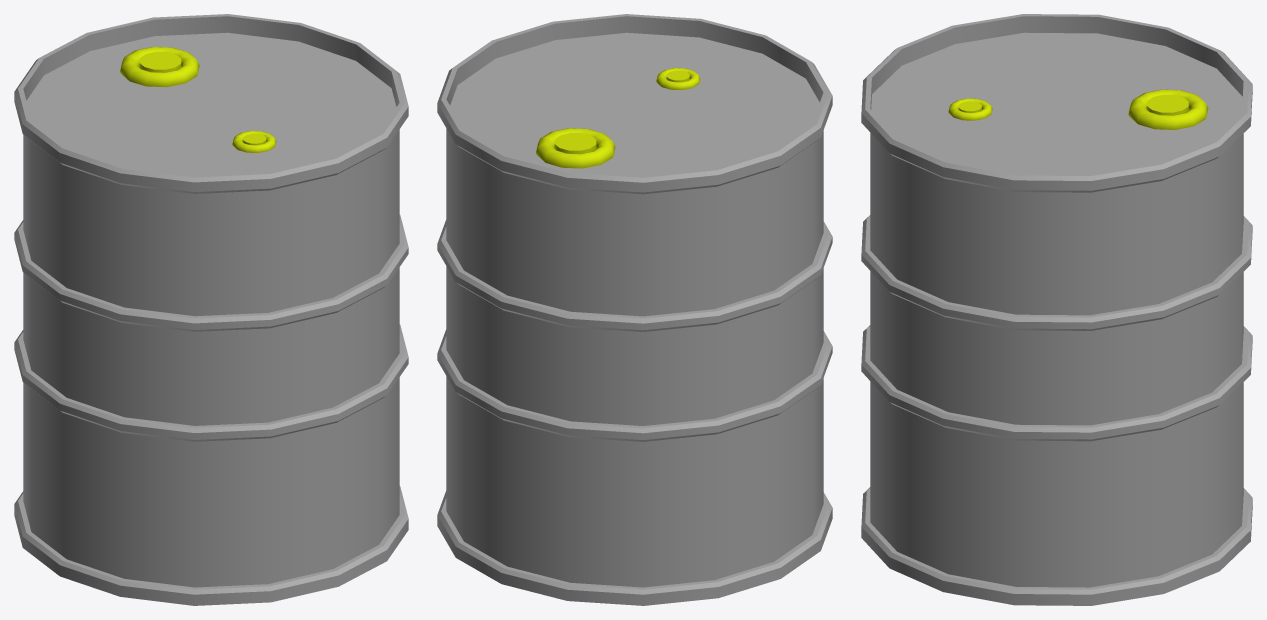
Rendered from oil_barrel_asset.fbx.
3 views of the same model, side by side, from view 1: azimuth 30°, elevation 25°; view 2: azimuth 150°, elevation 25°; view 3: azimuth 270°, elevation 25° (orthographic).
Parts seen in each view (by area): view 1: oil_barrel_asset; view 2: oil_barrel_asset; view 3: oil_barrel_asset.
Part boxes in pixels (left/top/right/bottom): oil_barrel_asset: left=14, top=14, right=408, bottom=605; oil_barrel_asset: left=437, top=14, right=832, bottom=605; oil_barrel_asset: left=861, top=14, right=1252, bottom=605.
Size of the model in its own units: 0.9046 by 1.09 by 0.9046.
